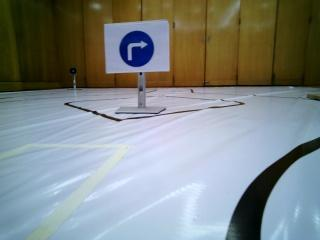right: (108, 26, 167, 70)
